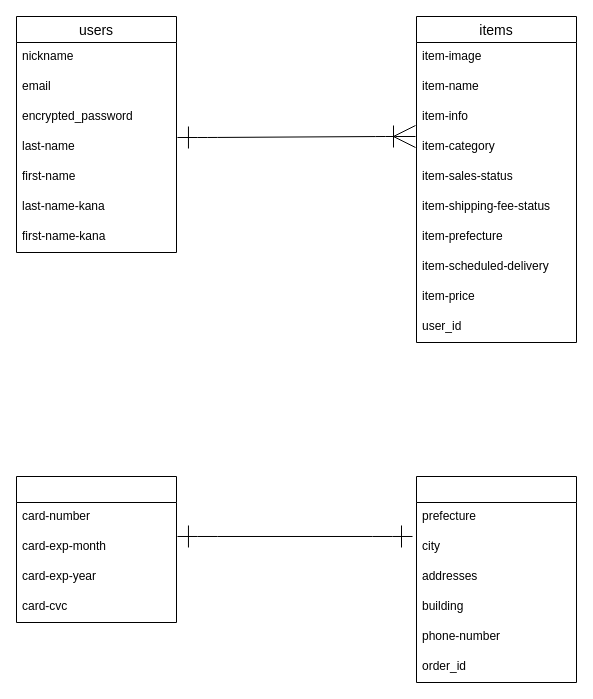
Some shapes in this 593 by 699 pixel diagram are drawn without their labels. Here are the shapes that lost their labels. From the top down, the box of each, then its label:
(16, 476, 176, 622): orders
(416, 476, 576, 682): postal-codes
